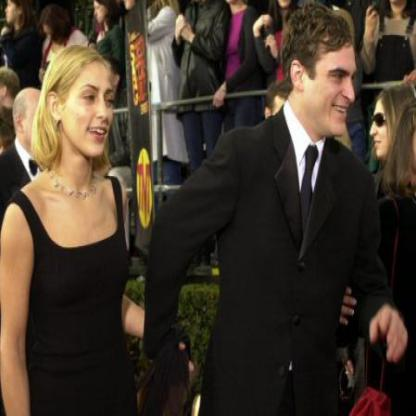face: (303, 14, 374, 137), (62, 49, 121, 160), (367, 94, 402, 159)
